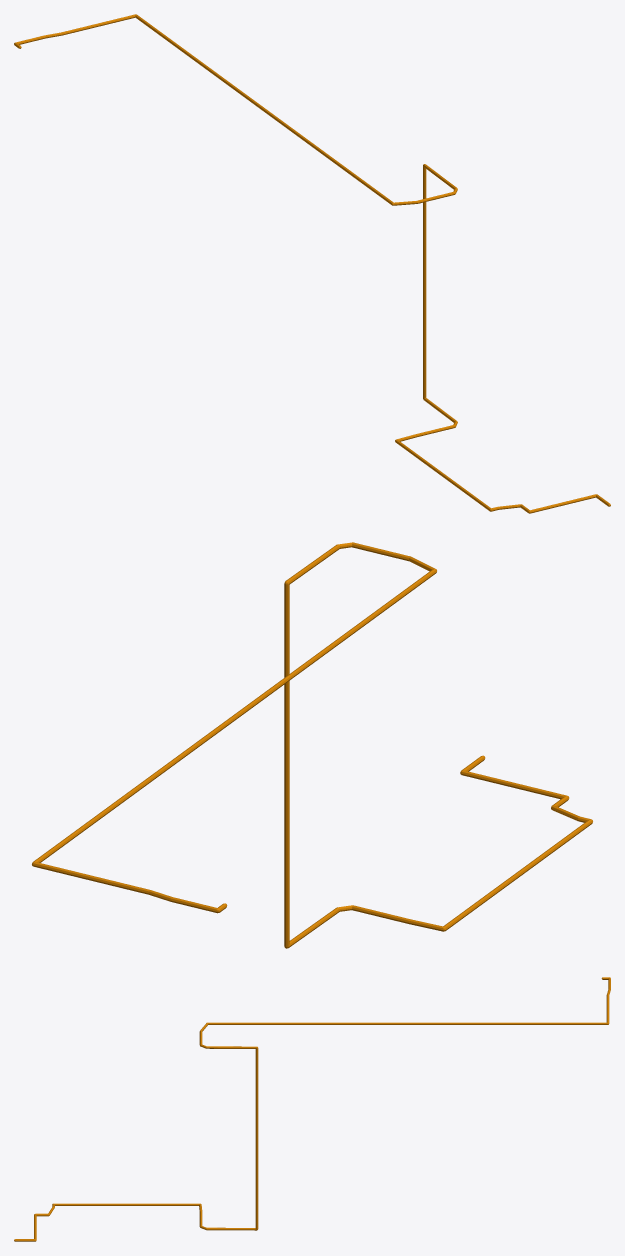
3 views of the same model, one above another, from view 1: azimuth 30°, elevation 25°; view 2: azimuth 150°, elevation 25°; view 3: azimuth 270°, elevation 25° (orthographic). The views are drawn at different scales.
Size of the model in its own units: 1446 by 1520 by 4474.
